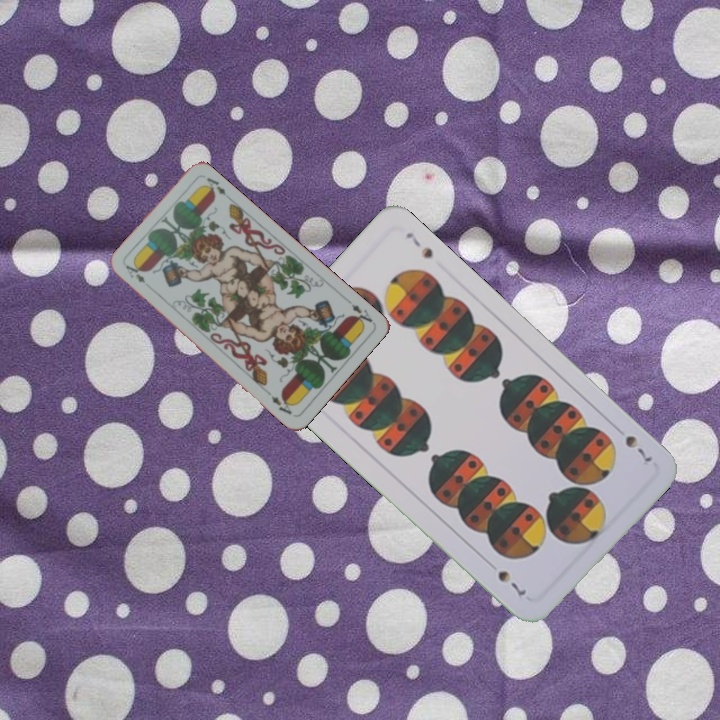EA: (342, 295, 375, 328), (121, 261, 148, 286)
S7: (620, 431, 655, 468)
